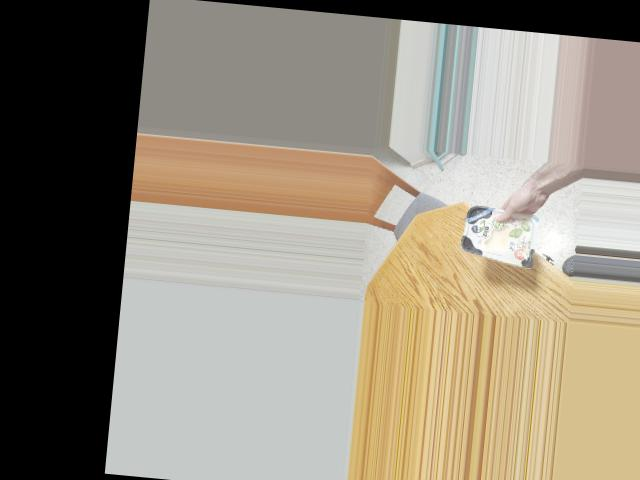cheese: (463, 204, 533, 263)
